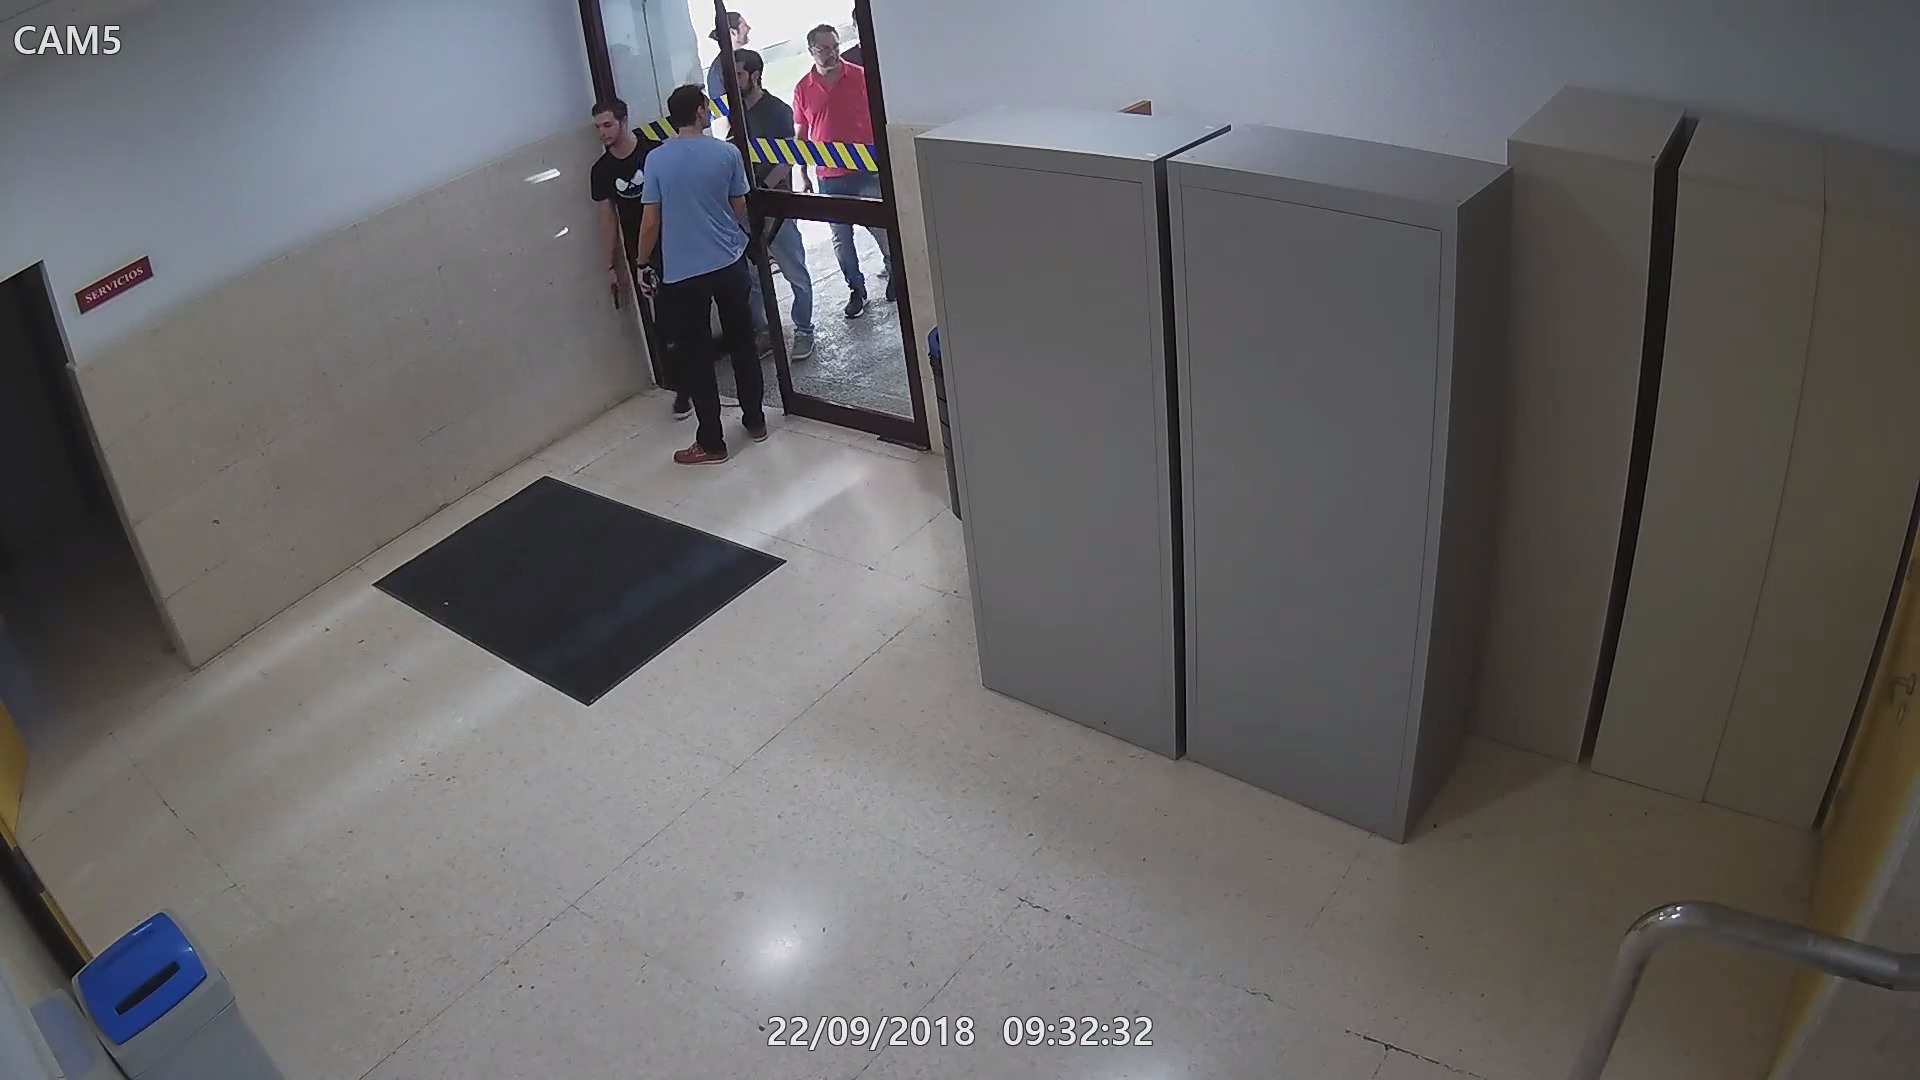Handgun: (636, 269, 663, 320), (636, 269, 663, 313), (603, 278, 624, 310)
Knife: (638, 270, 665, 323)
